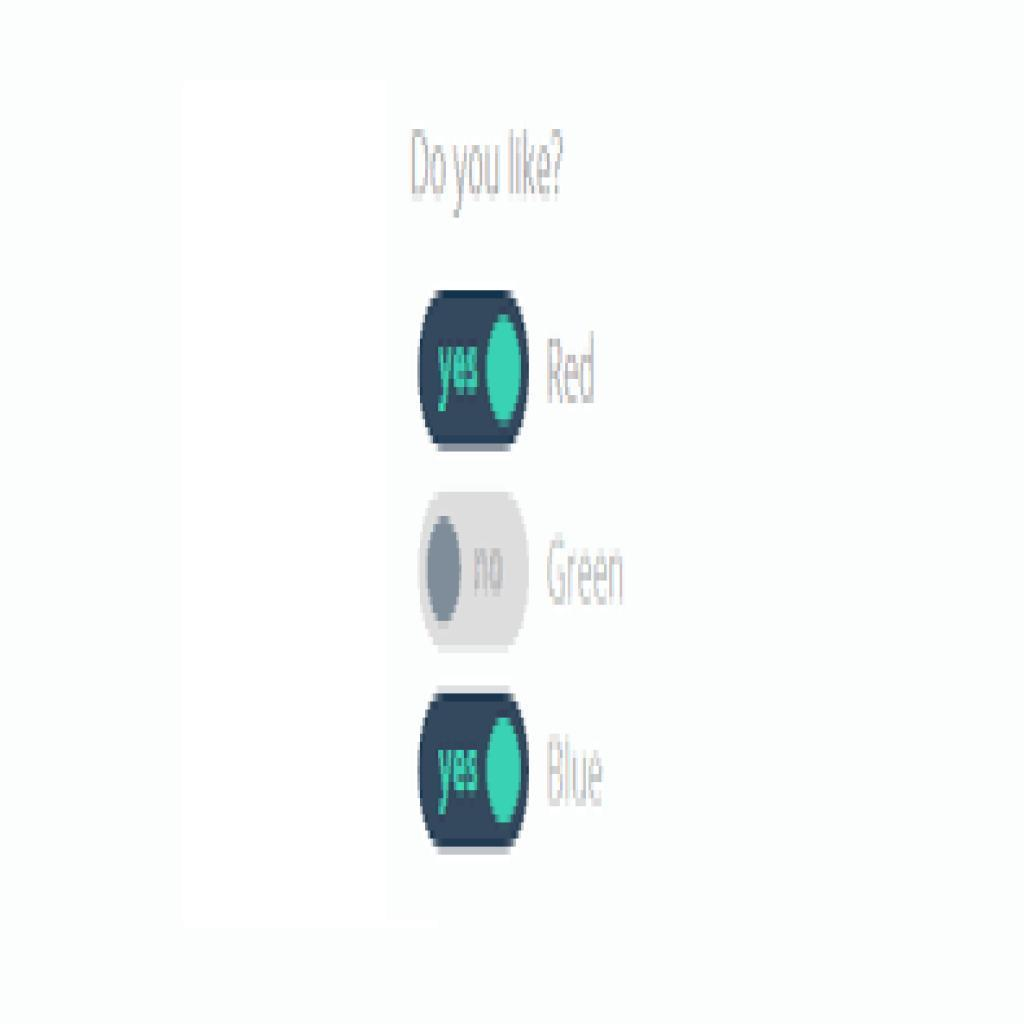switch: (417, 695, 533, 857), (415, 494, 532, 653), (420, 290, 531, 453)
